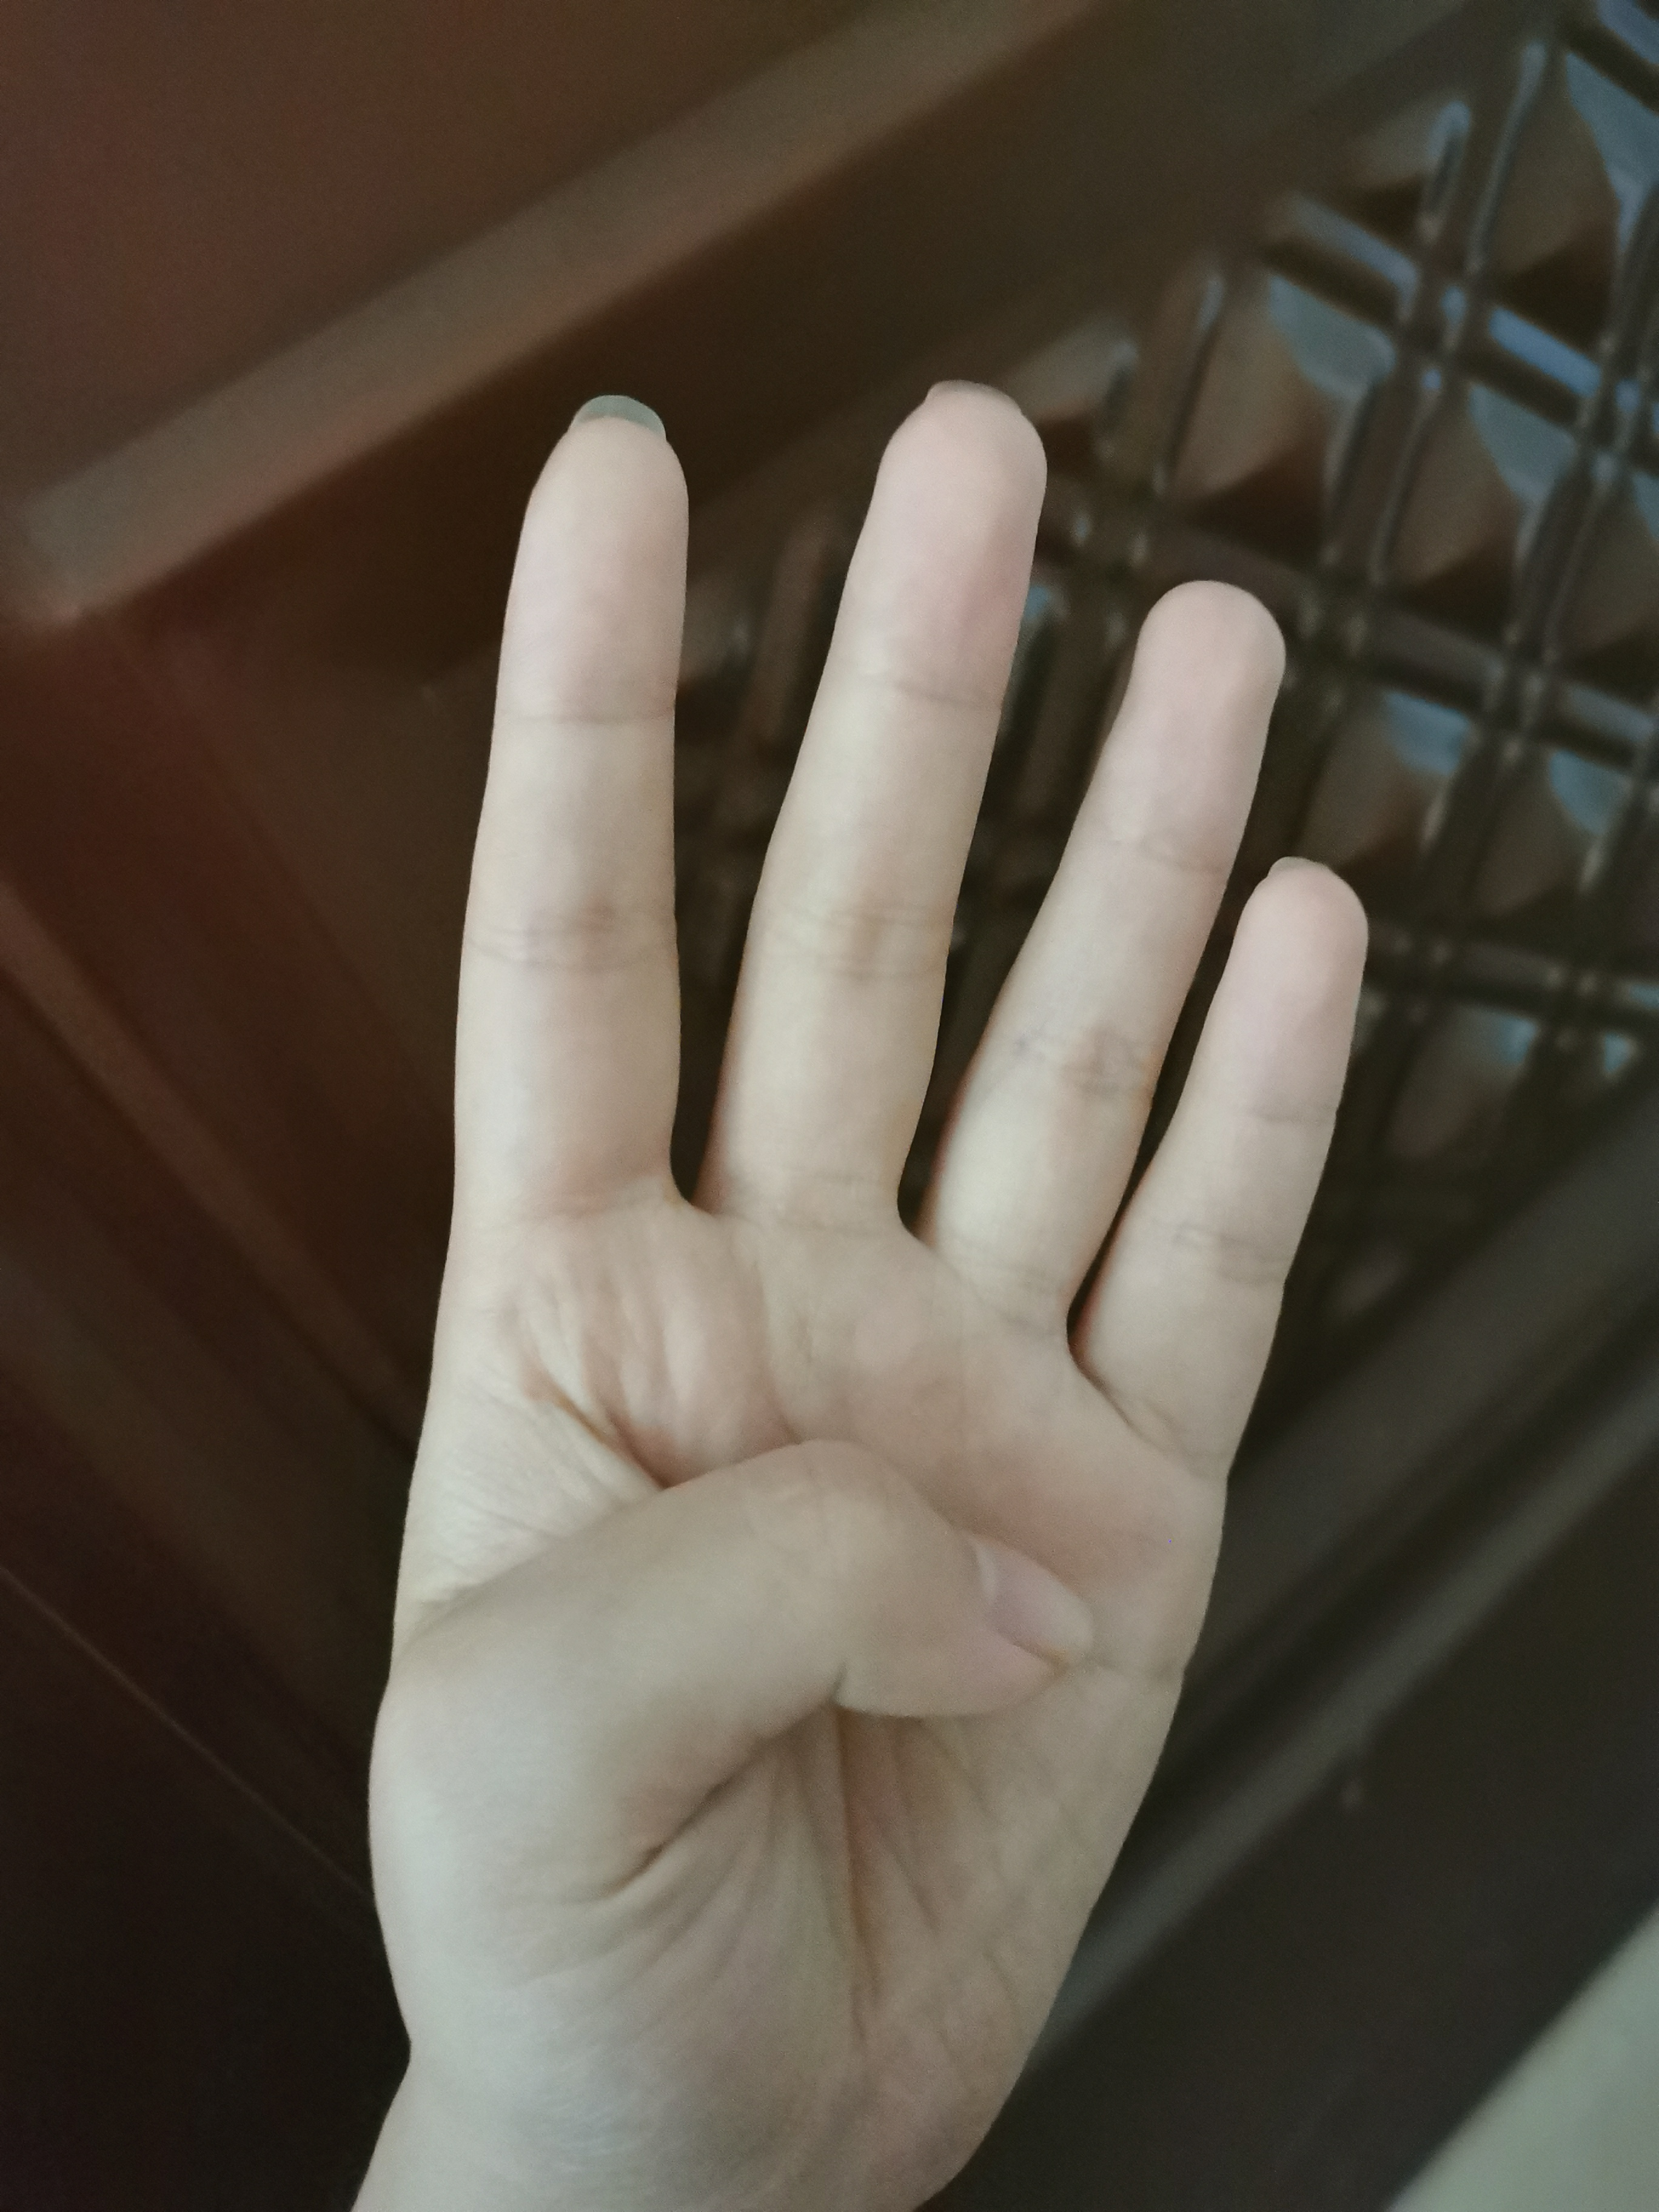right: (338, 371, 1370, 2127)
